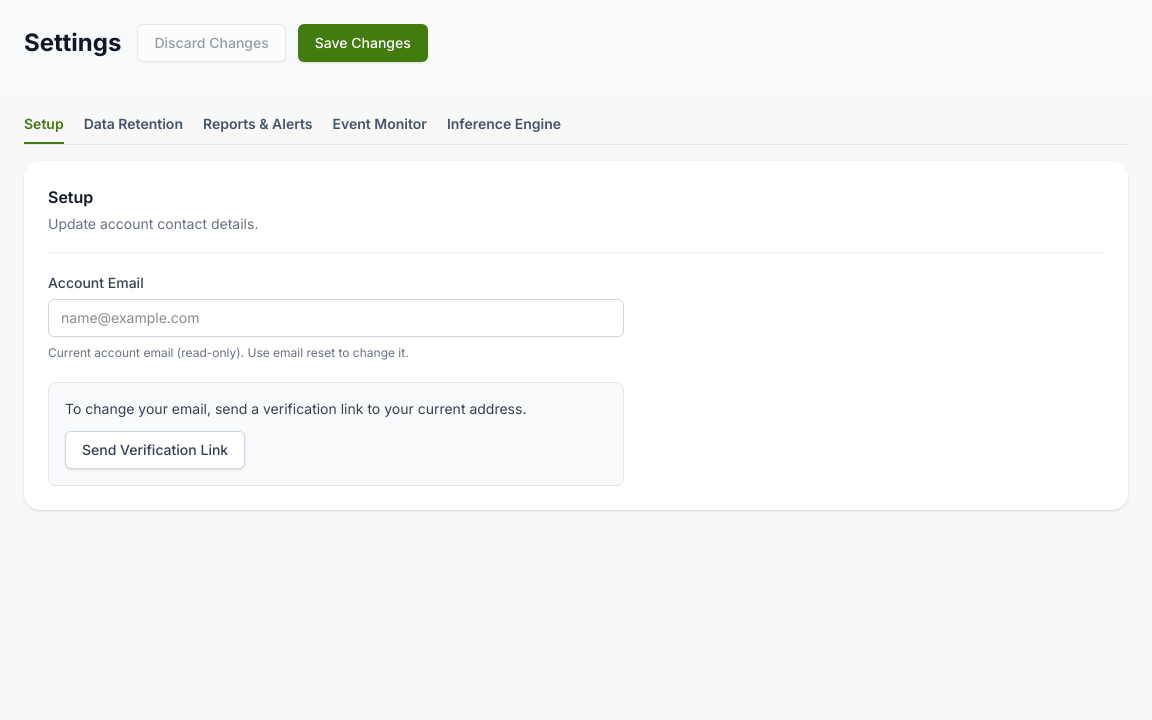
Test: SettingsPage › switches between tabs
Check: the text "Account Email" is shown, box [48, 274, 144, 291]
// Switch to Data Retention
Click the tab "Data Retention": click(133, 127) [84, 110, 183, 144]
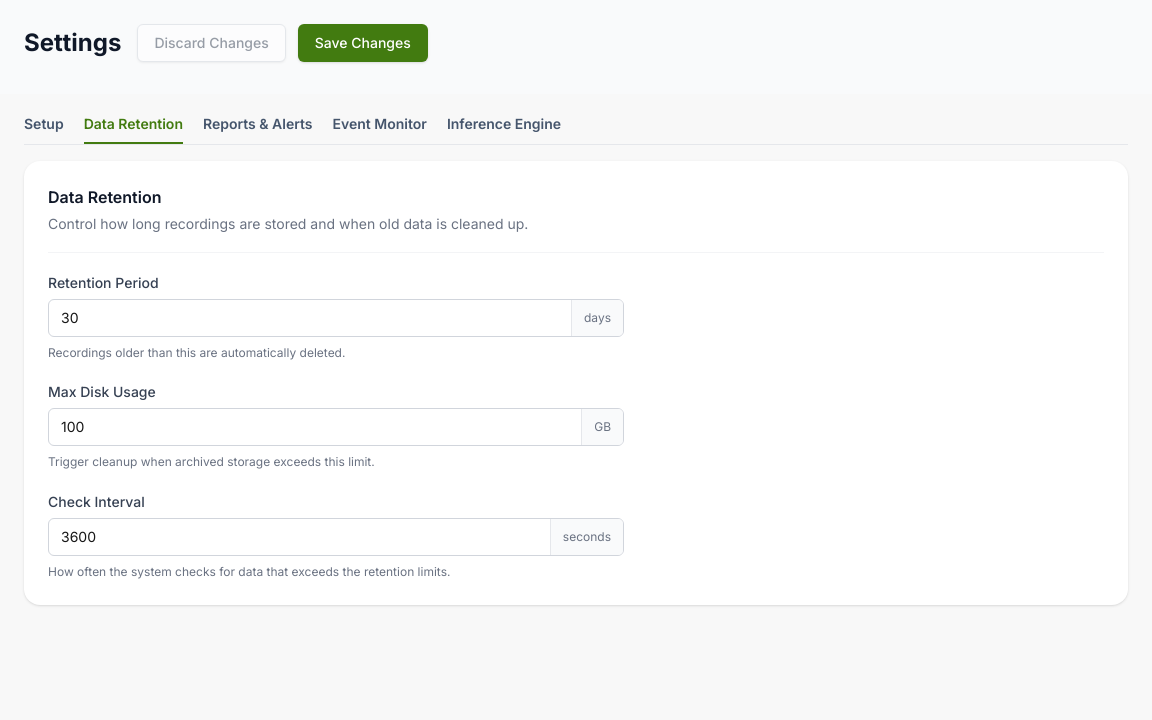
Check: the text "Retention Period" is shown, box [48, 274, 159, 291]
Check: the text "Max Disk Usage" is shown, box [48, 383, 156, 400]
// Switch to Reports & Alerts
Click the tab "Reports & Alerts": click(258, 127) [203, 110, 313, 144]
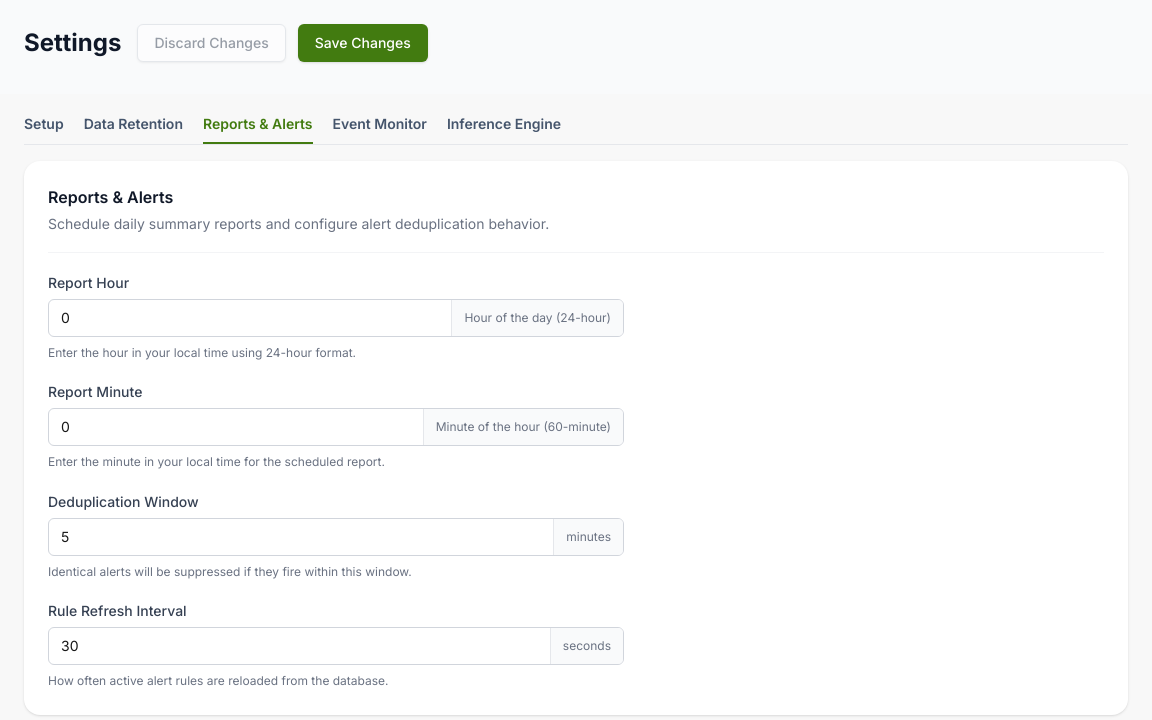
Check: the text "Report Hour" is shown, box [48, 274, 129, 291]
Check: the text "Deduplication Window" is shown, box [48, 493, 199, 510]
// Switch to Event Monitor
Click the tab "Event Monitor": click(380, 127) [333, 110, 427, 144]
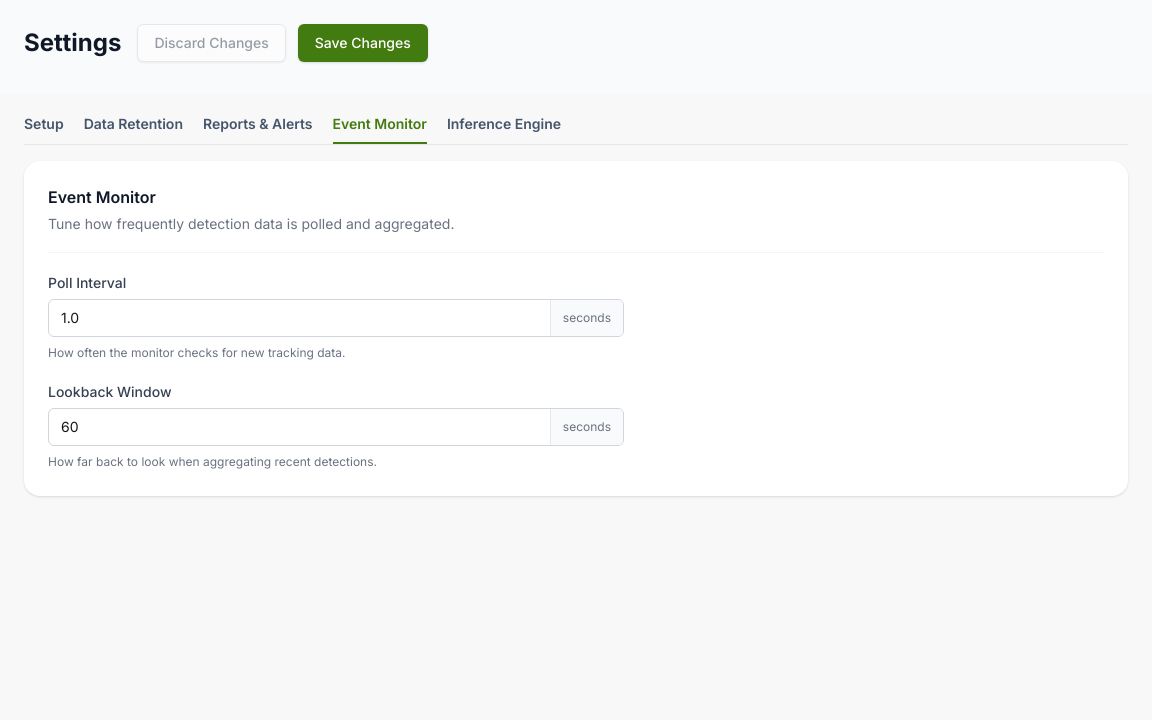
Check: the text "Poll Interval" is shown, box [48, 274, 126, 291]
// Switch to Inference Engine
Click the tab "Inference Engine": click(504, 127) [447, 110, 561, 144]
(page scrolled)
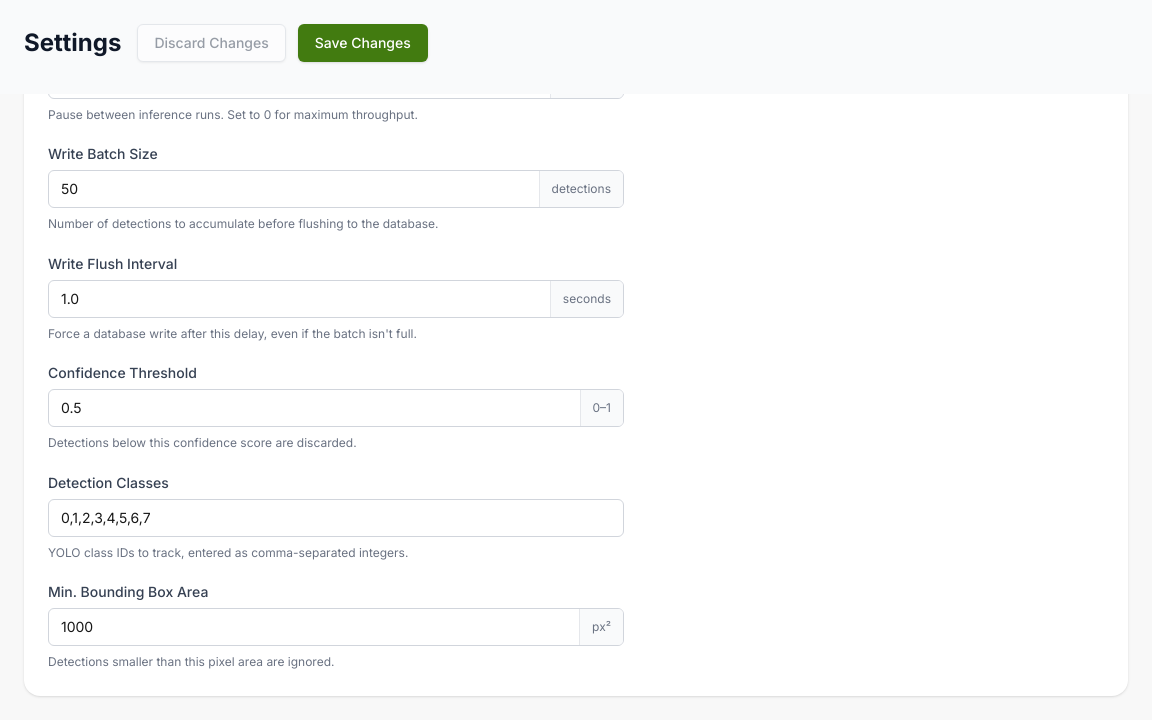
Check: the text "Confidence Threshold" is shown, box [48, 364, 197, 381]
Check: the text "Detection Classes" is shown, box [48, 474, 169, 491]
